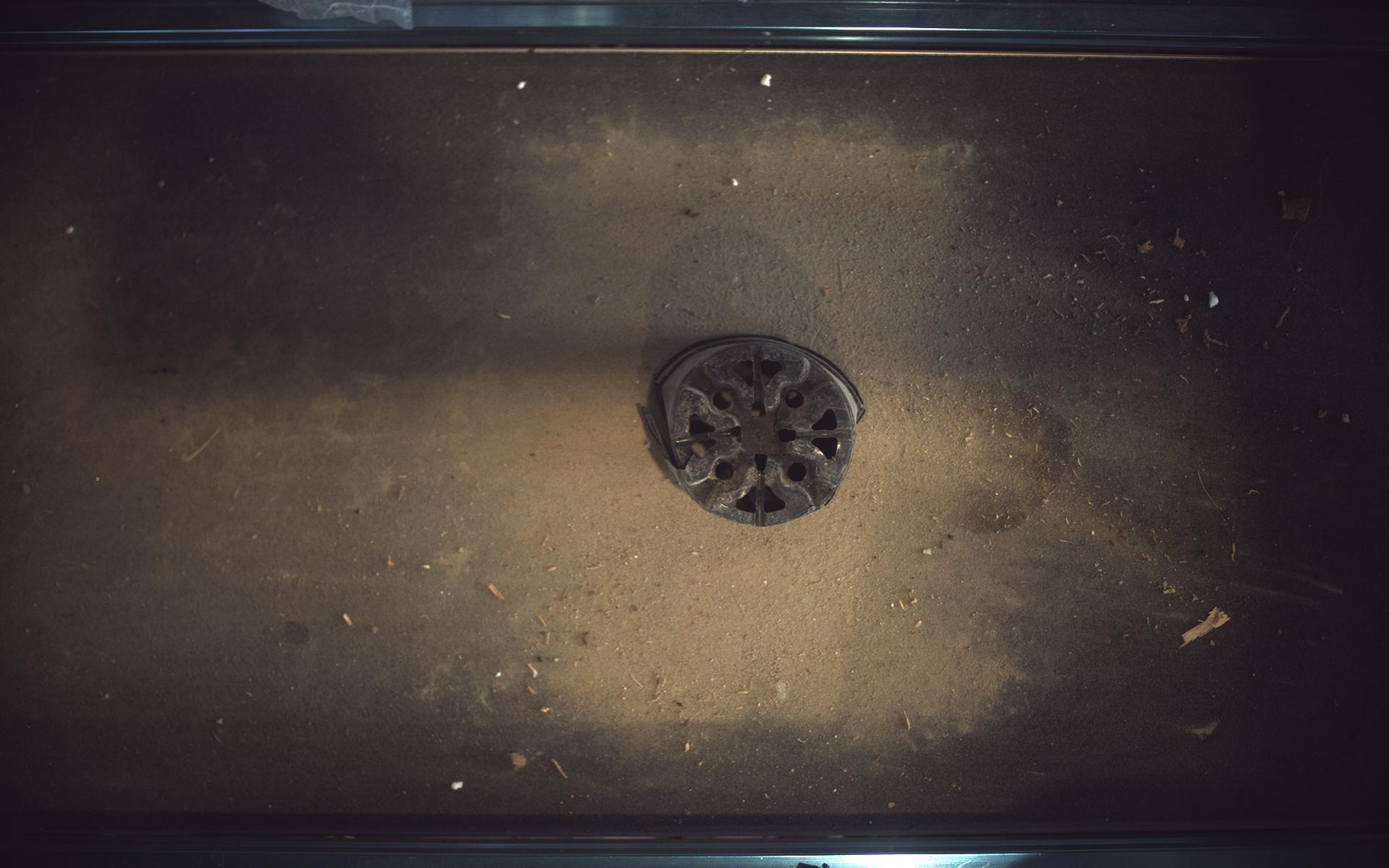general_w: (640, 334, 866, 527)
